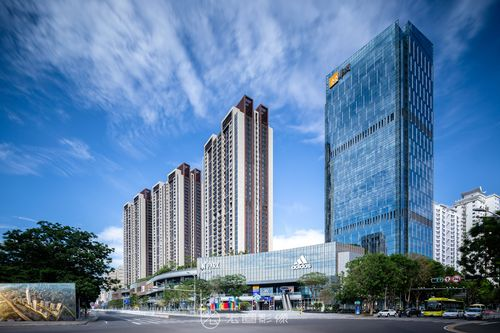buildings: (315, 33, 477, 267), (192, 92, 285, 273), (121, 156, 209, 297)
